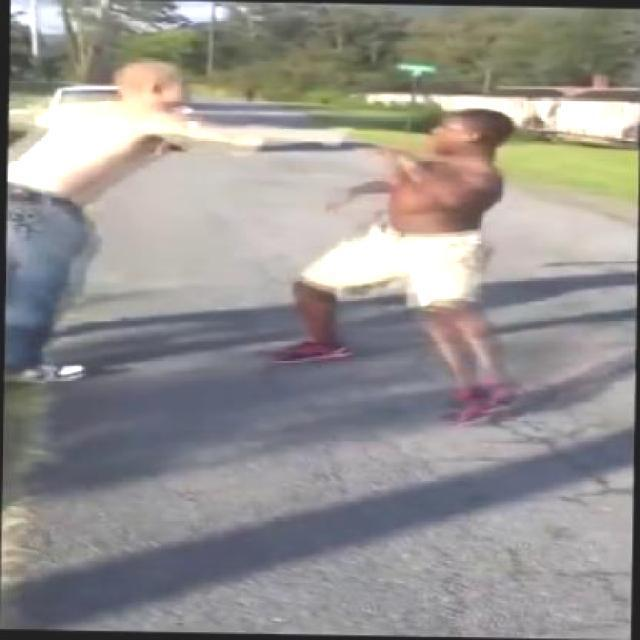fight: (0, 58, 543, 424)
